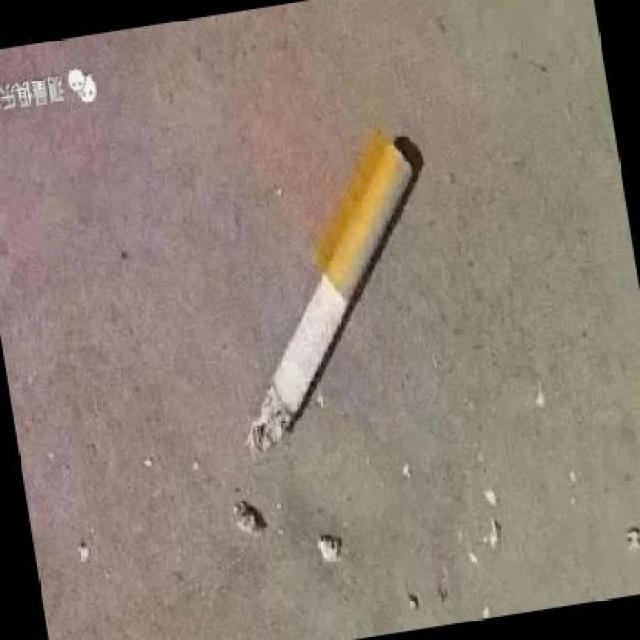cigarette: (198, 133, 456, 464)
